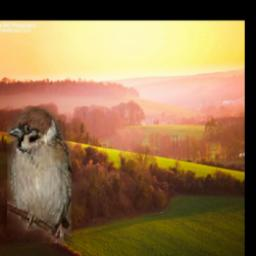Sparrow: (8, 107, 72, 244)
